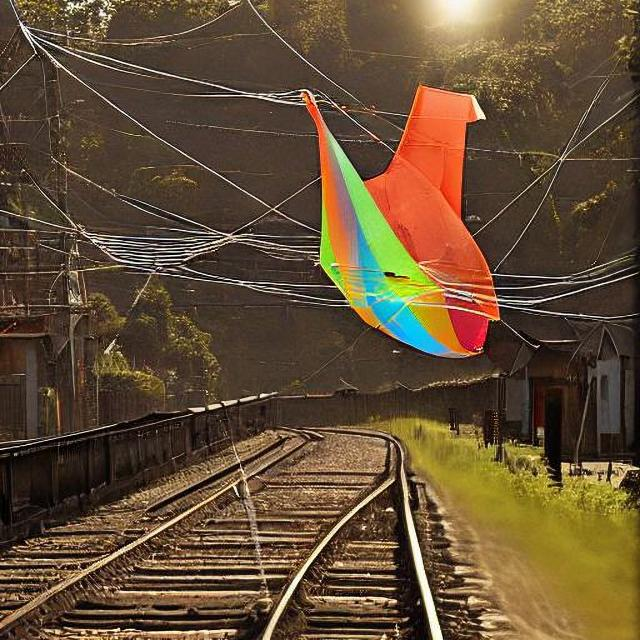floating object: (307, 84, 501, 355)
